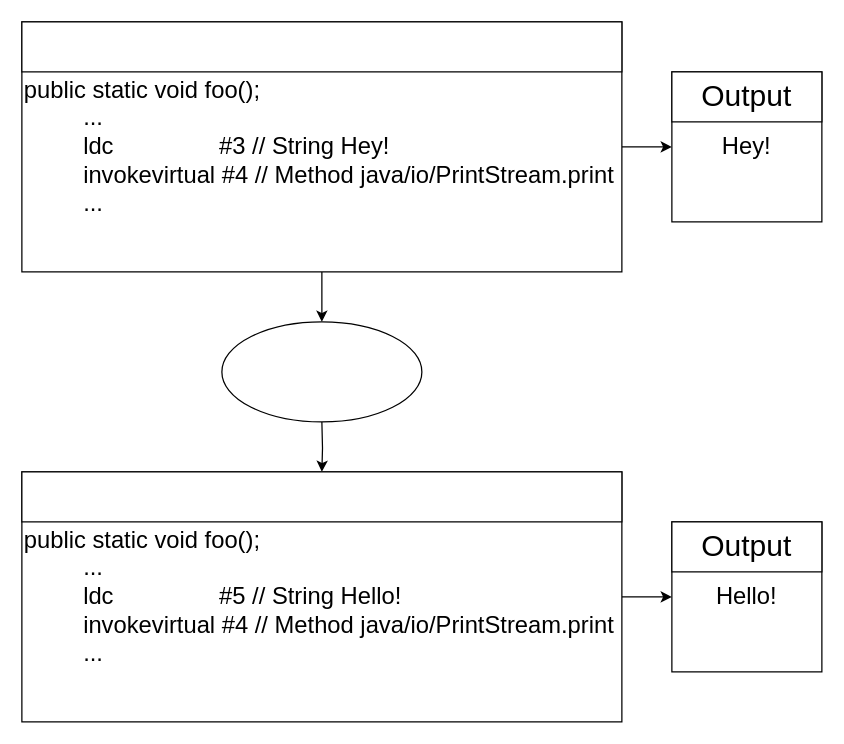
Some shapes in this 844 by 744 pixel diagram are drawn without their labels. Each missing label, with the centre of its shape:
"Altered binary" goes at pixel 321 496.
"Binary file" goes at pixel 321 46.
"Mutator" goes at pixel 321 371.
